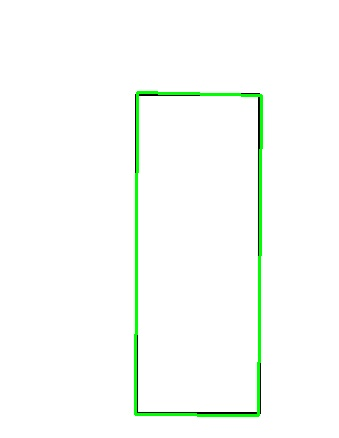line_segment: (134, 92, 262, 416)
